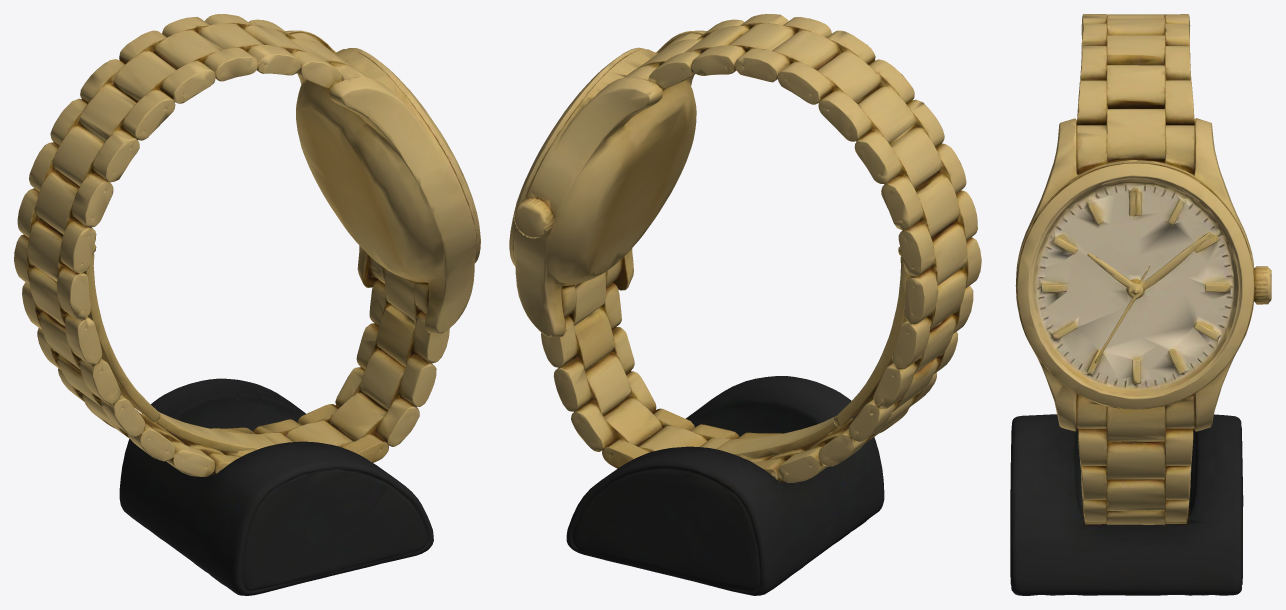
The model's file is watch-gold-hf.glb.
The picture shows the model from 3 angles, left to right: view 1: azimuth 30°, elevation 25°; view 2: azimuth 150°, elevation 25°; view 3: azimuth 270°, elevation 25°; orthographic projection. The views are drawn at different scales.
Parts seen in each view (by area): view 1: tripo_node_a0b47cb7-d1fc-4483-bae9-54d66aab9f99; view 2: tripo_node_a0b47cb7-d1fc-4483-bae9-54d66aab9f99; view 3: tripo_node_a0b47cb7-d1fc-4483-bae9-54d66aab9f99.
Boxes of the visible parts, box(x1,y1,x2,y2) form: tripo_node_a0b47cb7-d1fc-4483-bae9-54d66aab9f99: box(14, 14, 480, 595); tripo_node_a0b47cb7-d1fc-4483-bae9-54d66aab9f99: box(509, 14, 981, 595); tripo_node_a0b47cb7-d1fc-4483-bae9-54d66aab9f99: box(1010, 14, 1271, 595).
Size of the model in its own units: 0.8321 by 1 by 0.4783.
Materials: 1 (1 with a texture image).
